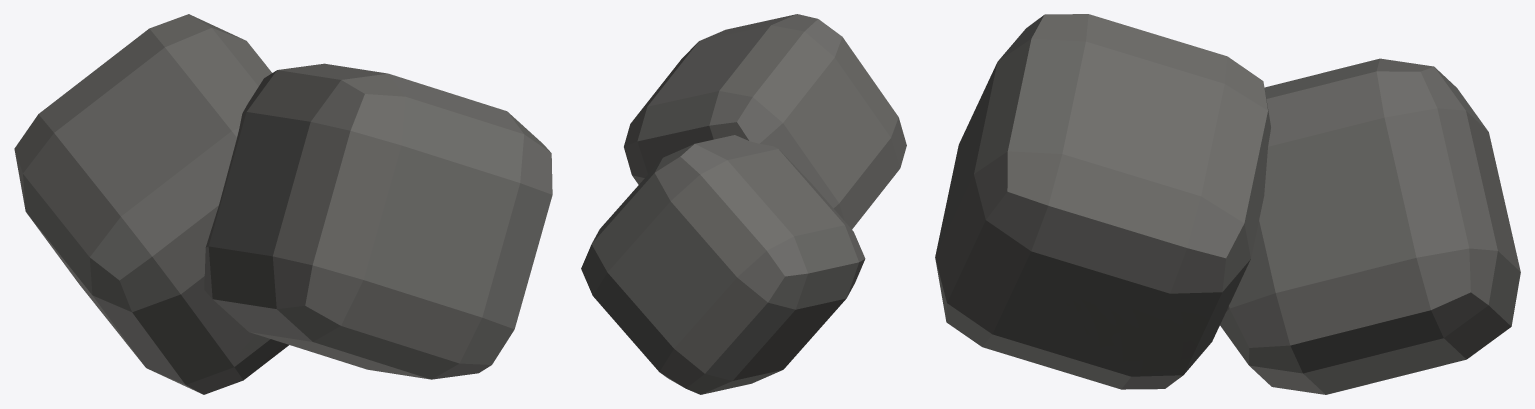
File: Terrain Models_Rock1.fbx
3 renders of one model, left to right at view 1: azimuth 30°, elevation 25°; view 2: azimuth 150°, elevation 25°; view 3: azimuth 270°, elevation 25°, orthographic. The views are drawn at different scales.
Visible parts, largest first — view 1: Cube.013; view 2: Cube.013; view 3: Cube.013.
Boxes of the visible parts, box(x1,y1,x2,y2) form: Cube.013: box(14, 14, 552, 394); Cube.013: box(581, 14, 906, 394); Cube.013: box(935, 14, 1520, 394).
Bounding box in the file's own units: 553 × 571 × 774.
1 material, 1 textured.
